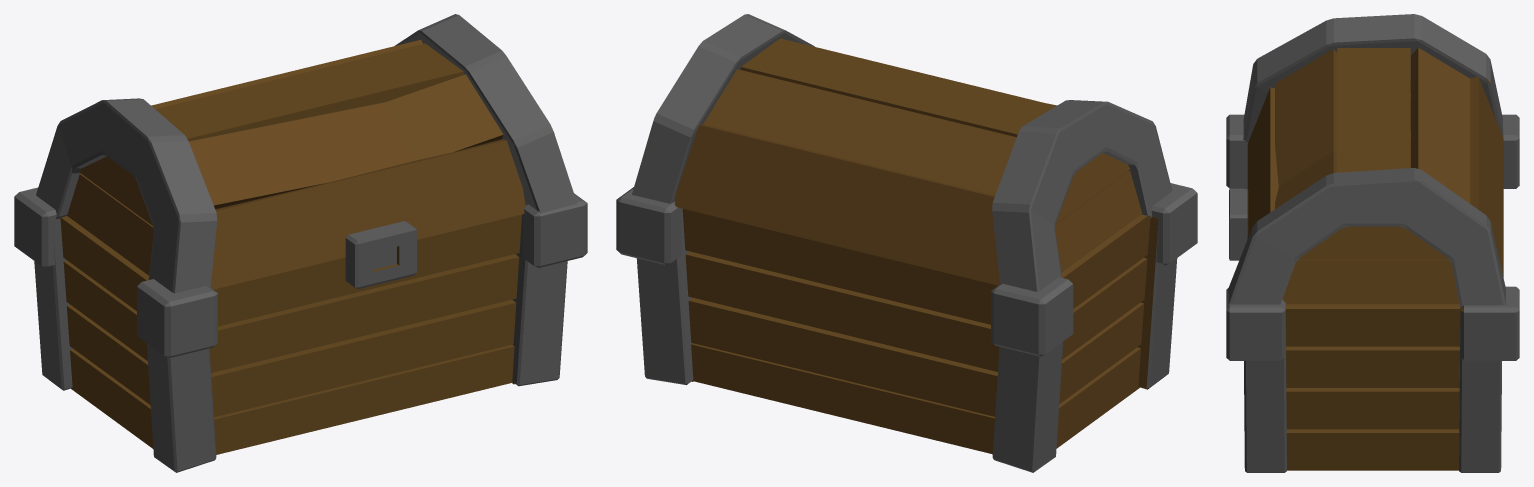
Rendered from SM_SM_chest_01.fbx.
The picture shows the model from 3 angles, left to right: view 1: azimuth 30°, elevation 25°; view 2: azimuth 150°, elevation 25°; view 3: azimuth 270°, elevation 25°; orthographic projection. The views are drawn at different scales.
Parts seen in each view (by area): view 1: SM_chest_01; view 2: SM_chest_01; view 3: SM_chest_01.
Boxes of the visible parts, box(x1,y1,x2,y2) form: SM_chest_01: box(14, 14, 587, 472); SM_chest_01: box(616, 14, 1197, 472); SM_chest_01: box(1226, 14, 1519, 472).
Size of the model in its own units: 79.48 by 54.51 by 50.
